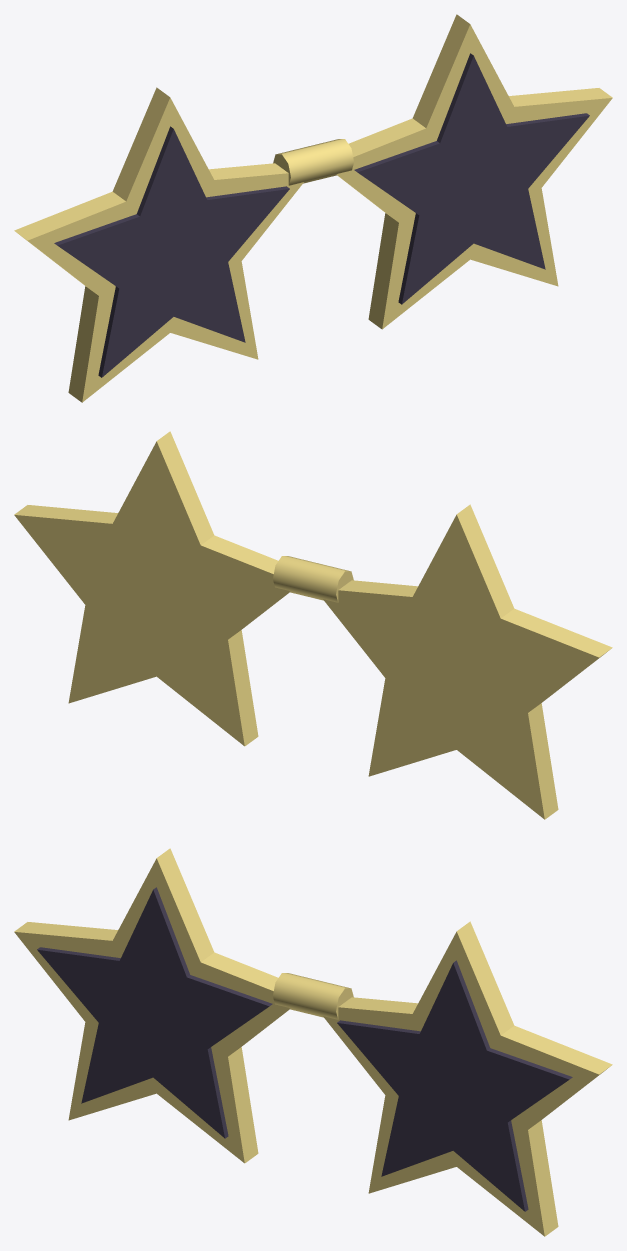
File: star-shades-meetup-2.glb
The picture shows the model from 3 angles, top to bottom: view 1: azimuth 30°, elevation 25°; view 2: azimuth 150°, elevation 25°; view 3: azimuth 330°, elevation 25°; orthographic projection.
Parts seen in each view (by area): view 1: lenses, frames, bridge; view 2: frames, bridge; view 3: lenses, frames, bridge.
Boxes of the visible parts, x1,y1,x2,y2 form: lenses: (54, 53, 589, 377); frames: (14, 14, 612, 402); bridge: (273, 139, 353, 185); frames: (14, 431, 612, 819); bridge: (273, 556, 353, 602); lenses: (37, 887, 572, 1211); frames: (14, 848, 612, 1236); bridge: (273, 973, 353, 1019).
Size of the model in its own units: 0.1483 by 0.0687 by 0.0085.
